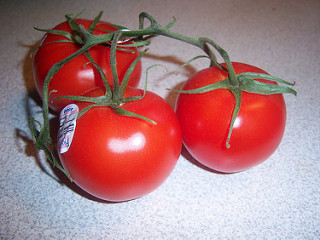tomato: (55, 92, 177, 194), (181, 63, 290, 174), (34, 16, 144, 97)
